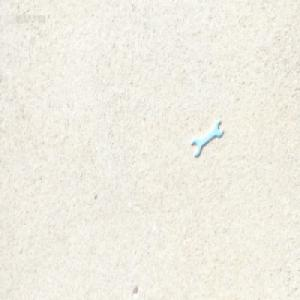Wrench: (190, 121, 221, 157)
